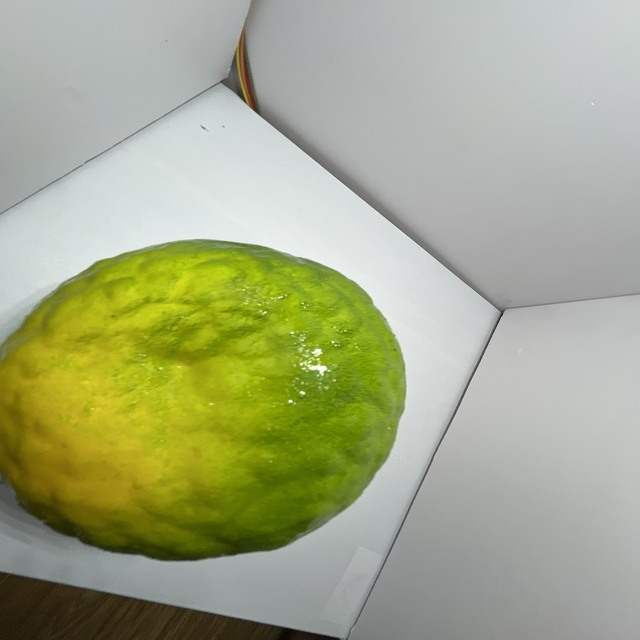Cam xanh: (0, 240, 414, 569)
